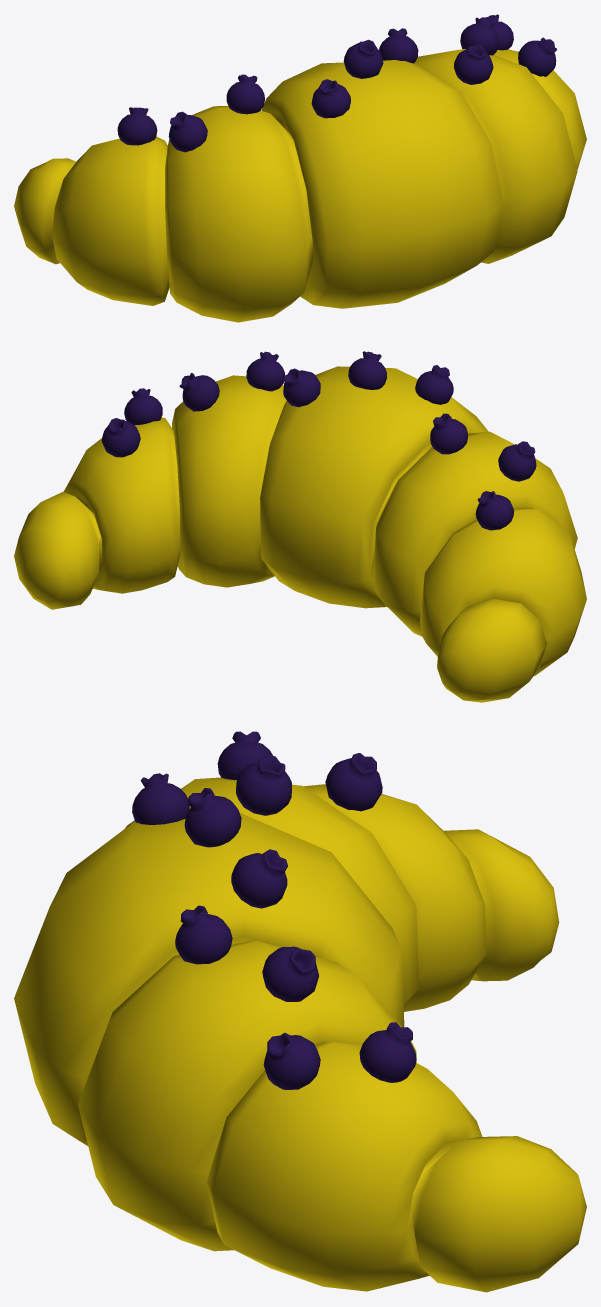
Rendered from Croissant.FBX.
3 views of the same model, one above another, from view 1: azimuth 30°, elevation 25°; view 2: azimuth 150°, elevation 25°; view 3: azimuth 270°, elevation 25° (orthographic). The views are drawn at different scales.
Visible parts, largest first — view 1: Croissant; view 2: Croissant; view 3: Croissant.
Boxes of the visible parts, left/top/right/bottom form: Croissant: left=14, top=14, right=586, bottom=322; Croissant: left=14, top=351, right=586, bottom=702; Croissant: left=14, top=731, right=586, bottom=1292.
Size of the model in its own units: 1035 by 681 by 474.
